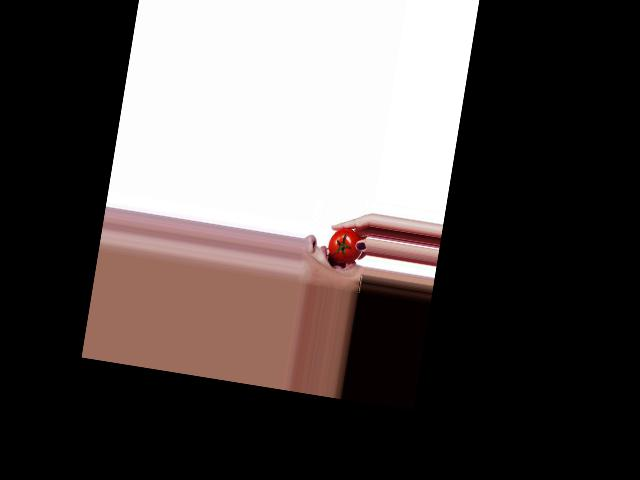tomato: (326, 225, 366, 265)
